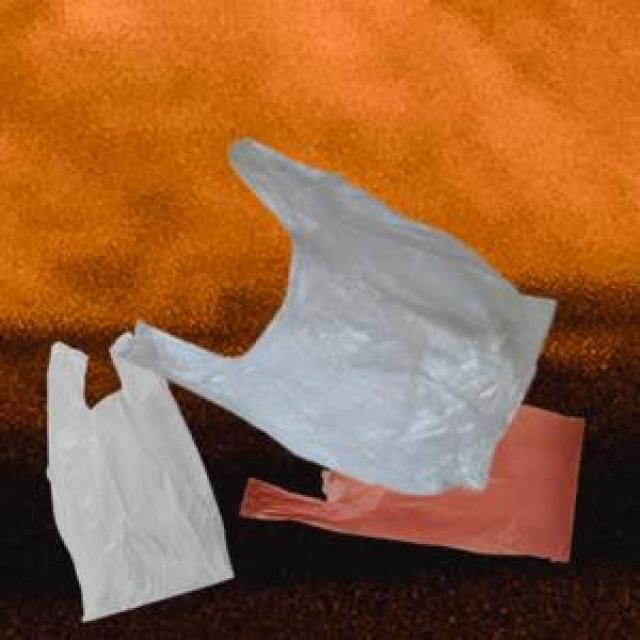plastic: (18, 125, 581, 634)
